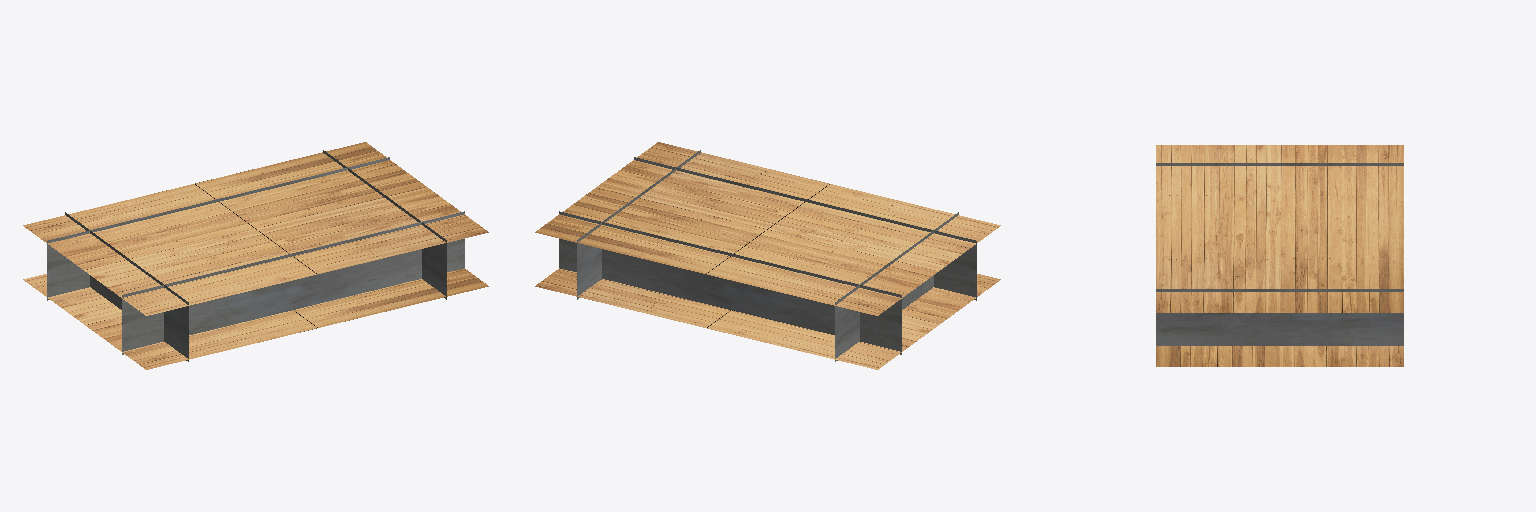
3 renders of one model, left to right at view 1: azimuth 30°, elevation 25°; view 2: azimuth 150°, elevation 25°; view 3: azimuth 270°, elevation 25°, orthographic.
Visible parts, largest first — view 1: Decke_Plane.006, Boden_Plane, linke_Wand_Plane.004, rechte_Wand_Plane.001, Rückwand_Plane.002, Vorderwand_Plane.003; view 2: Decke_Plane.006, Boden_Plane, rechte_Wand_Plane.001, linke_Wand_Plane.004, Rückwand_Plane.002, Vorderwand_Plane.003; view 3: Decke_Plane.006, Vorderwand_Plane.003, Boden_Plane, Rückwand_Plane.002.
Boxes of the visible parts, x1,y1,x2,y2 form: Decke_Plane.006: [23, 142, 488, 315]; Boden_Plane: [23, 268, 488, 369]; linke_Wand_Plane.004: [122, 211, 464, 354]; rechte_Wand_Plane.001: [47, 157, 389, 300]; Rückwand_Plane.002: [65, 212, 188, 361]; Vorderwand_Plane.003: [323, 150, 446, 299]; Decke_Plane.006: [535, 142, 1000, 315]; Boden_Plane: [535, 268, 1000, 369]; rechte_Wand_Plane.001: [559, 211, 901, 354]; linke_Wand_Plane.004: [634, 157, 976, 300]; Rückwand_Plane.002: [835, 212, 958, 361]; Vorderwand_Plane.003: [577, 150, 700, 299]; Decke_Plane.006: [1156, 145, 1403, 312]; Vorderwand_Plane.003: [1156, 289, 1403, 345]; Boden_Plane: [1156, 346, 1403, 366]; Rückwand_Plane.002: [1156, 163, 1403, 165].
Bounding box in the file's own units: 24 × 4 × 15.
6 materials, 2 textured.